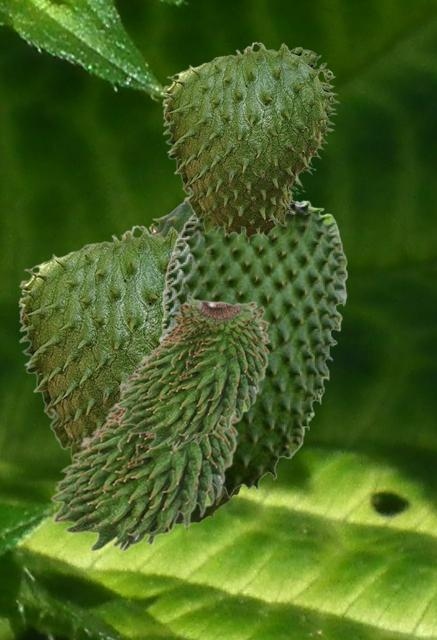guyabano: (158, 200, 347, 497), (18, 224, 179, 462), (49, 361, 239, 551), (162, 41, 339, 243), (148, 196, 242, 529), (115, 293, 270, 448)
